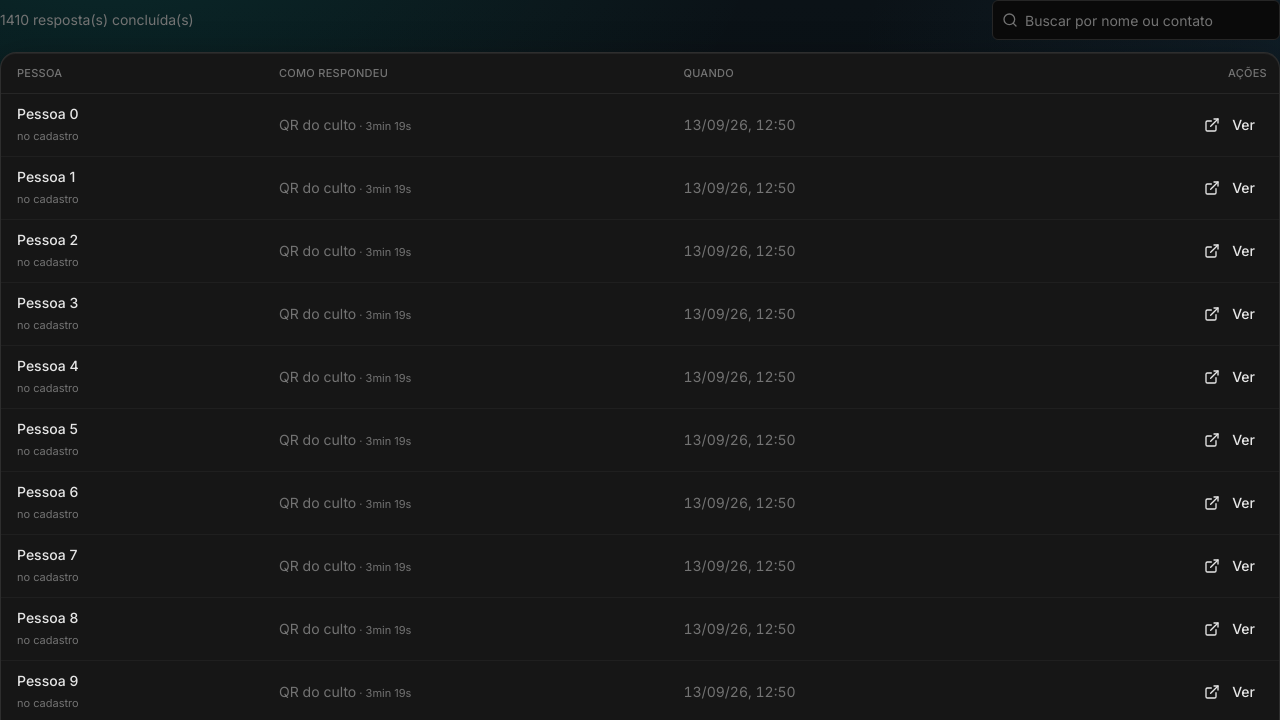
Test: AbaRespostas · o total é do banco, a página tem 50 › a régua de acento vale também para quem veio do 2º lote
The width and height of the screenshot is (1280, 720).
In the field with placeholder "Buscar por nome ou contato": point(1136, 20) [992, 0, 1279, 40], type "sudre"
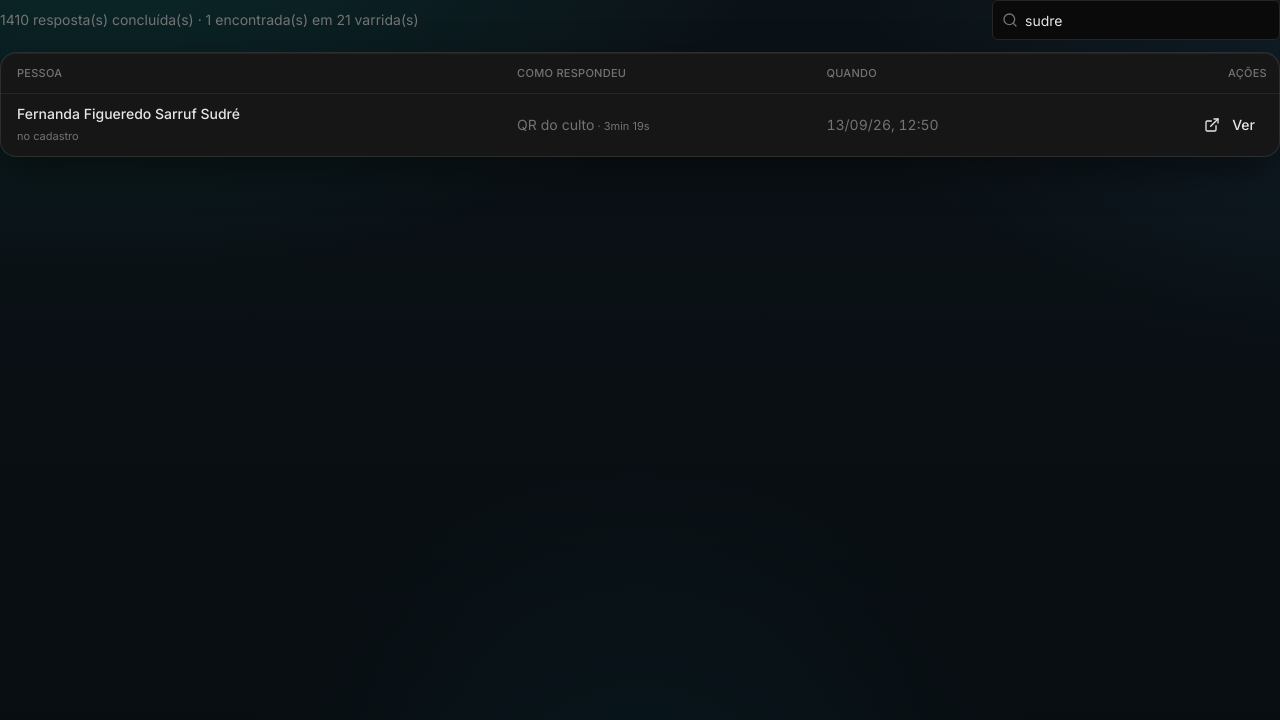
Now the button "Fernanda Figueredo Sarruf Sudré" is shown, box [17, 104, 240, 124]
